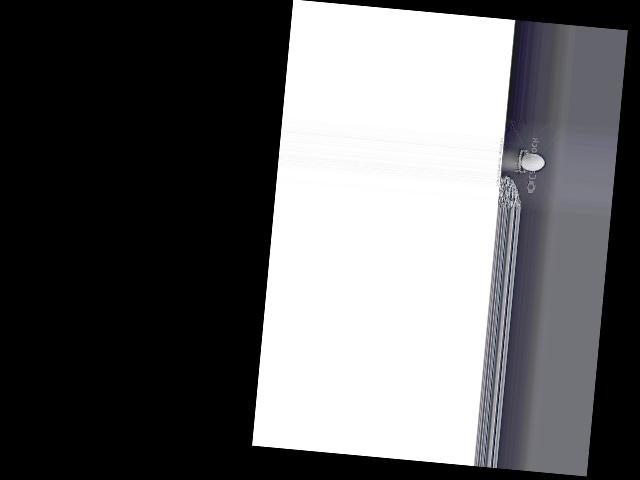egg: (520, 152, 544, 171)
